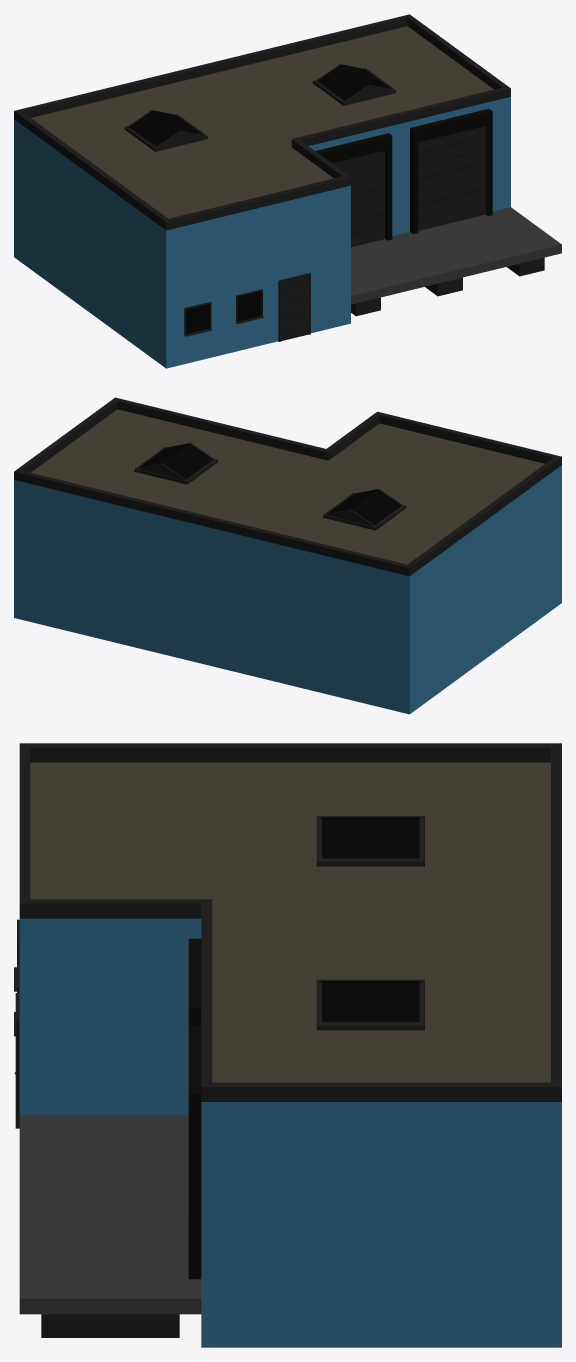
The model's file is SM_warehouse.FBX.
The picture shows the model from 3 angles, top to bottom: view 1: azimuth 30°, elevation 25°; view 2: azimuth 150°, elevation 25°; view 3: azimuth 270°, elevation 25°; orthographic projection. The views are drawn at different scales.
Visible parts, largest first — view 1: Warehouse; view 2: Warehouse; view 3: Warehouse.
Part boxes in pixels (bbox=[...]): Warehouse: bbox=[14, 14, 561, 368]; Warehouse: bbox=[14, 397, 561, 714]; Warehouse: bbox=[14, 743, 561, 1347].
Bounding box in the file's own units: 1500 × 550 × 1010.
